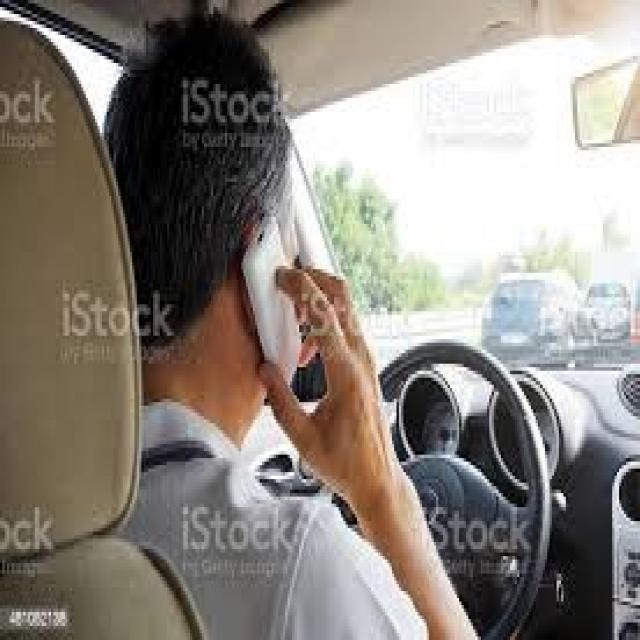Cellphone_calling: (218, 182, 385, 479)
